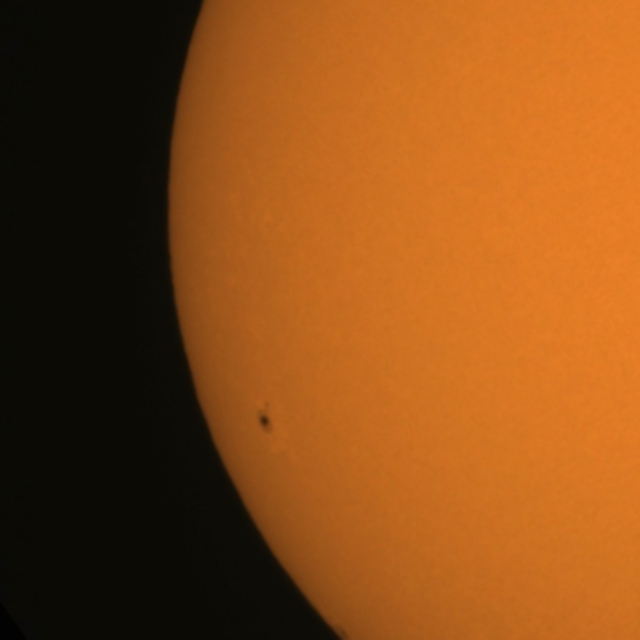sunspot: (256, 402, 275, 436)
